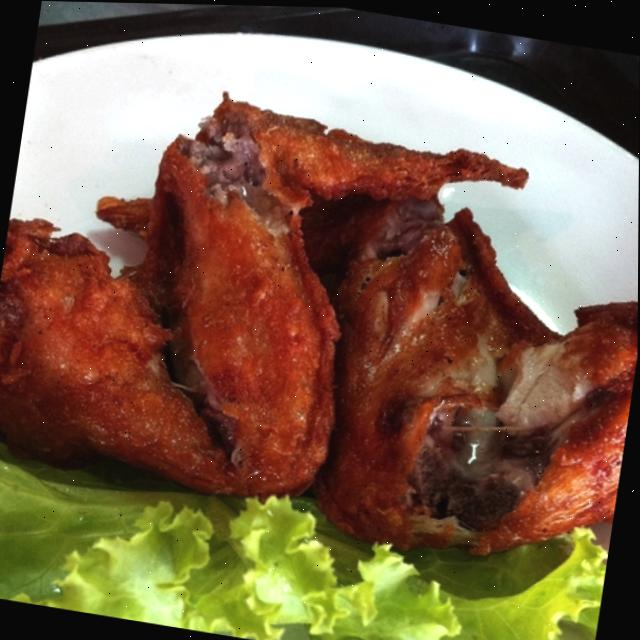鸡肉料理 含炸鸡: (0, 48, 640, 621)
